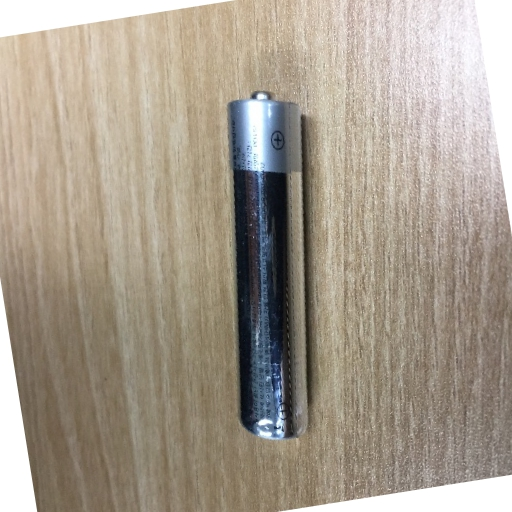Battery_0: (201, 77, 352, 461)
